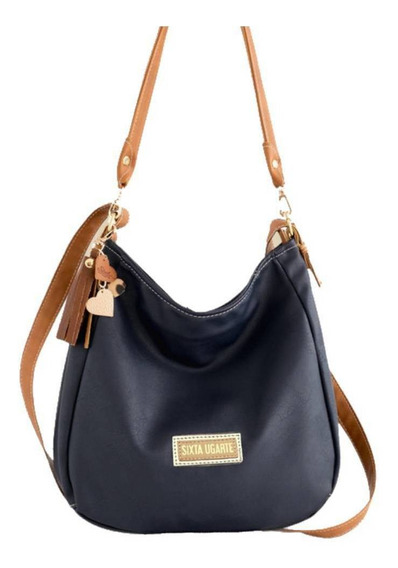cartera: (51, 27, 343, 537)
